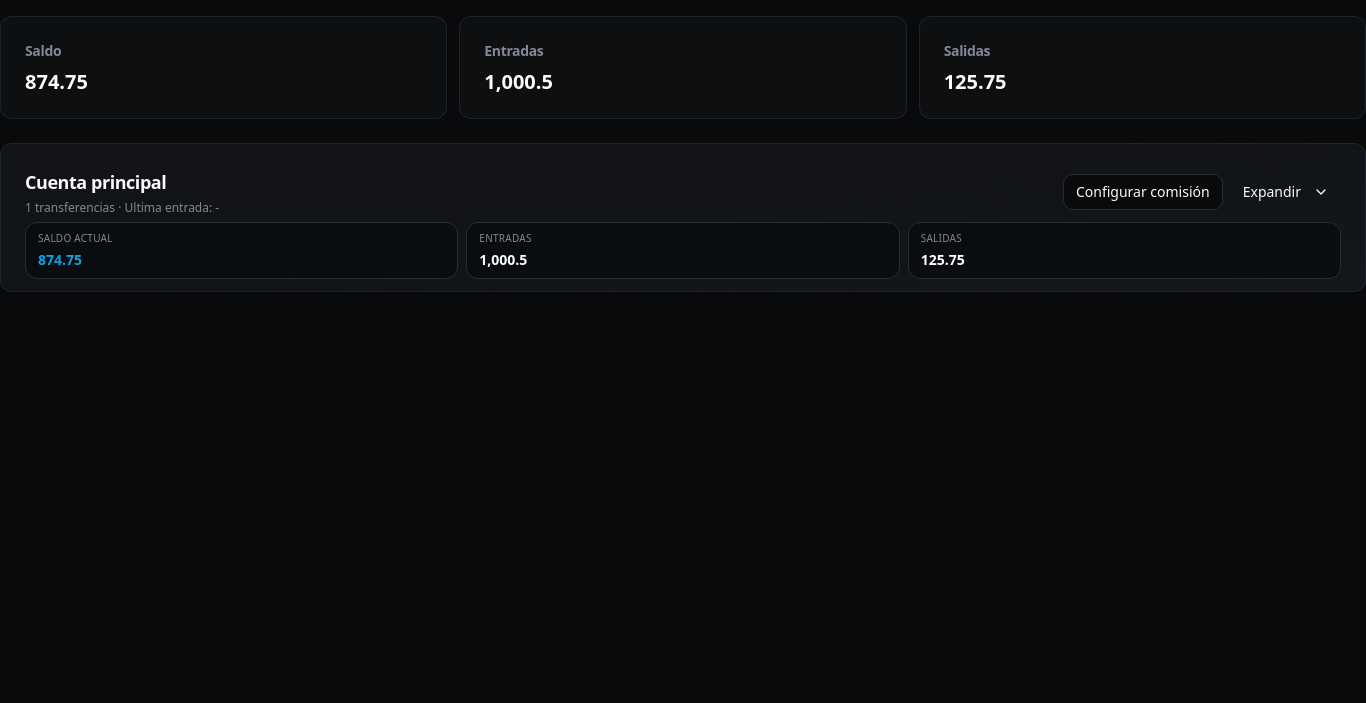
Test case: AccountsView › shows the FIFO price and remaining inventory before creating a wire
The width and height of the screenshot is (1366, 703).
Click the button "Expandir" at [1286, 192], box x1=1231 y1=174 x2=1341 y2=210
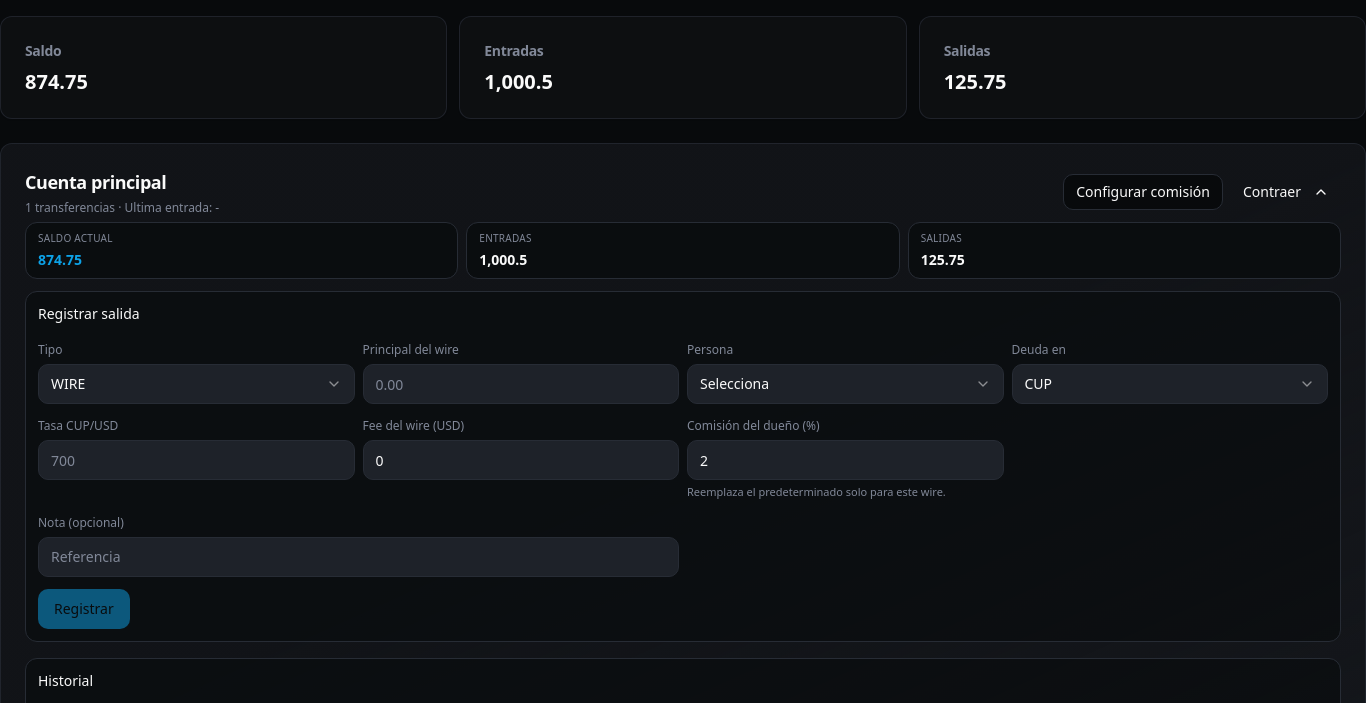
Type "100" into the field with placeholder "0.00" at [521, 384], box x1=362 y1=364 x2=679 y2=404
(page scrolled)
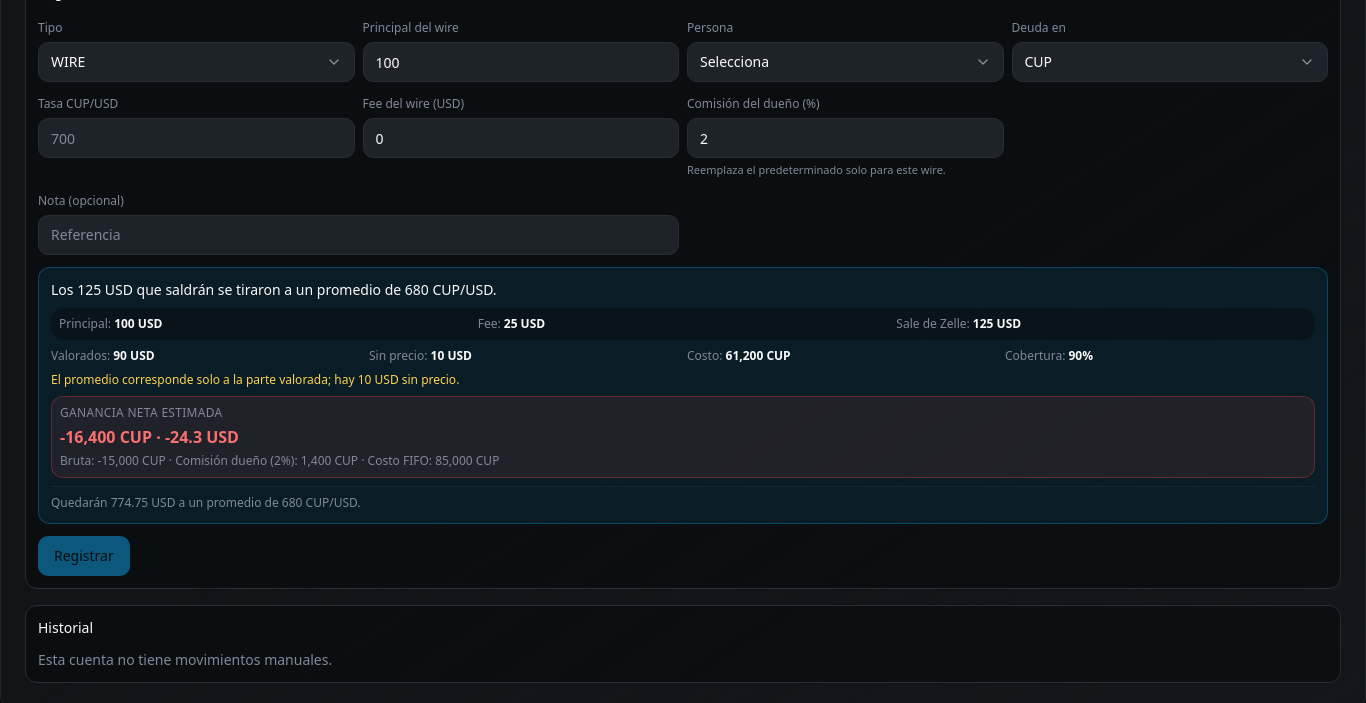
expect the text "se tiraron a un promedio de 680 CUP/USD" is shown: met, box x1=51 y1=280 x2=497 y2=298
expect the text "Quedarán 774.75 USD a un promedio de 680 CUP/USD." is shown: met, box x1=51 y1=486 x2=1315 y2=510
expect the text "hay 10 USD sin precio" is shown: met, box x1=51 y1=370 x2=459 y2=388
